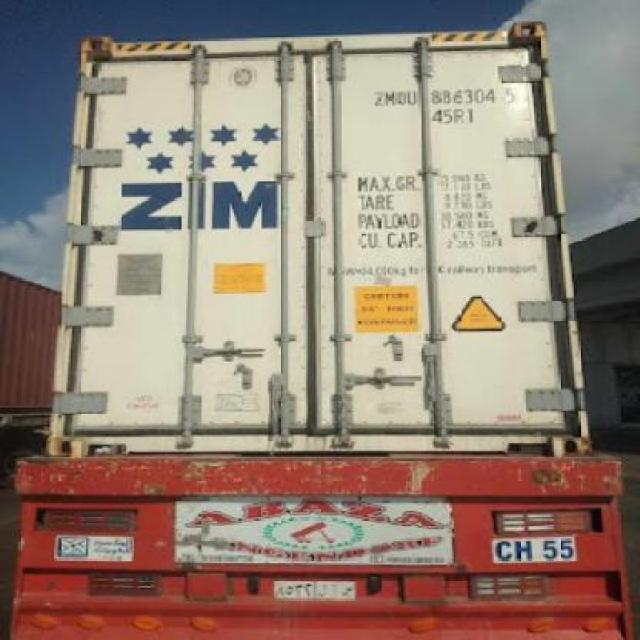ISO: (431, 108, 479, 127)
container_number: (373, 88, 526, 106)
